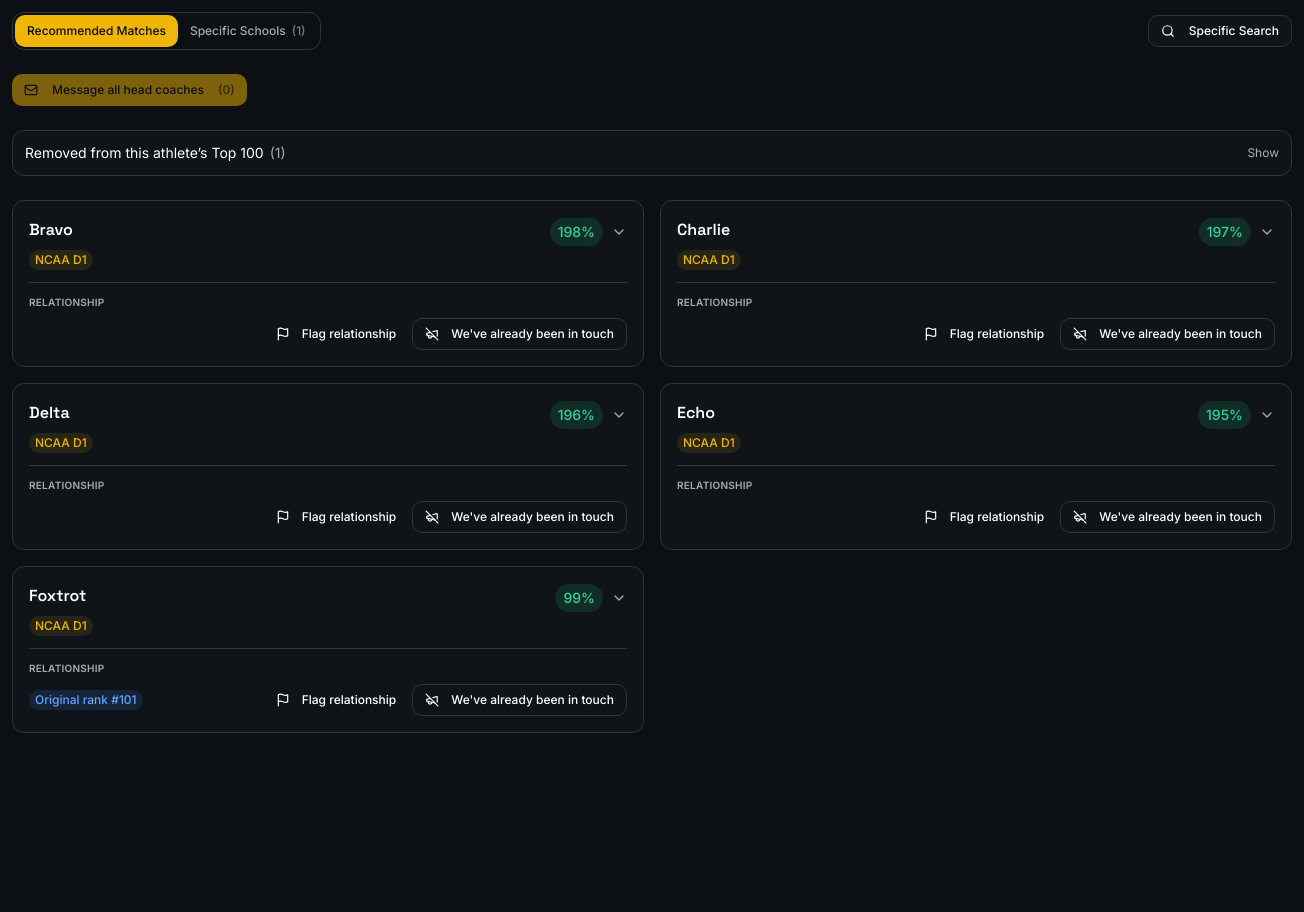
Test: a specifically-requested school that has been suppressed › is still visible in Specific Schools, which claims nothing about being actionable
Click the tab "Specific Schools(1)". click: [248, 31]
box: left=178, top=15, right=318, bottom=47
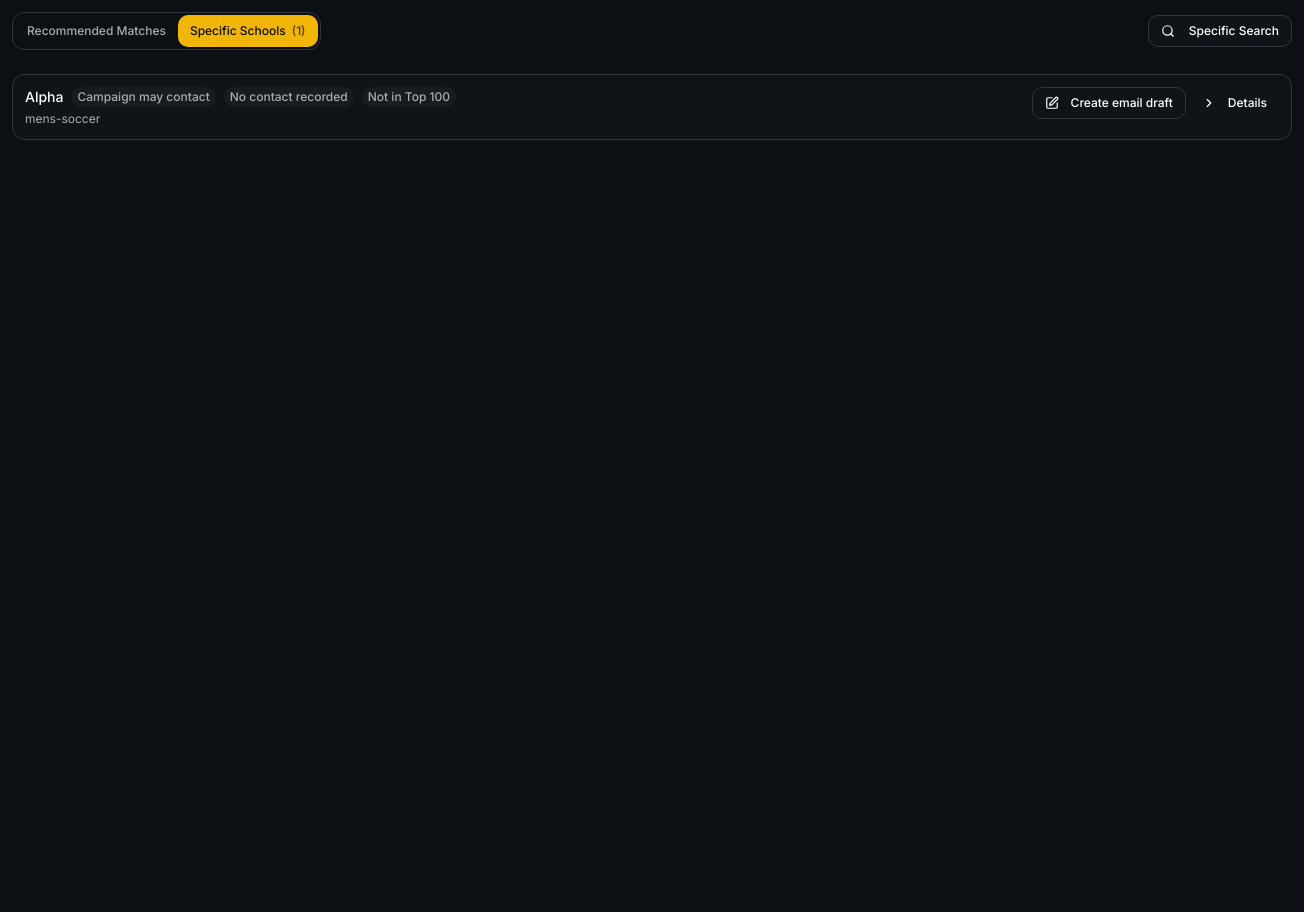
Now the number of list items with test id "specific-school-row" is 1, box left=13, top=75, right=1291, bottom=139
Now the list item with test id "specific-school-row" shows "Alpha", box left=25, top=88, right=64, bottom=105
